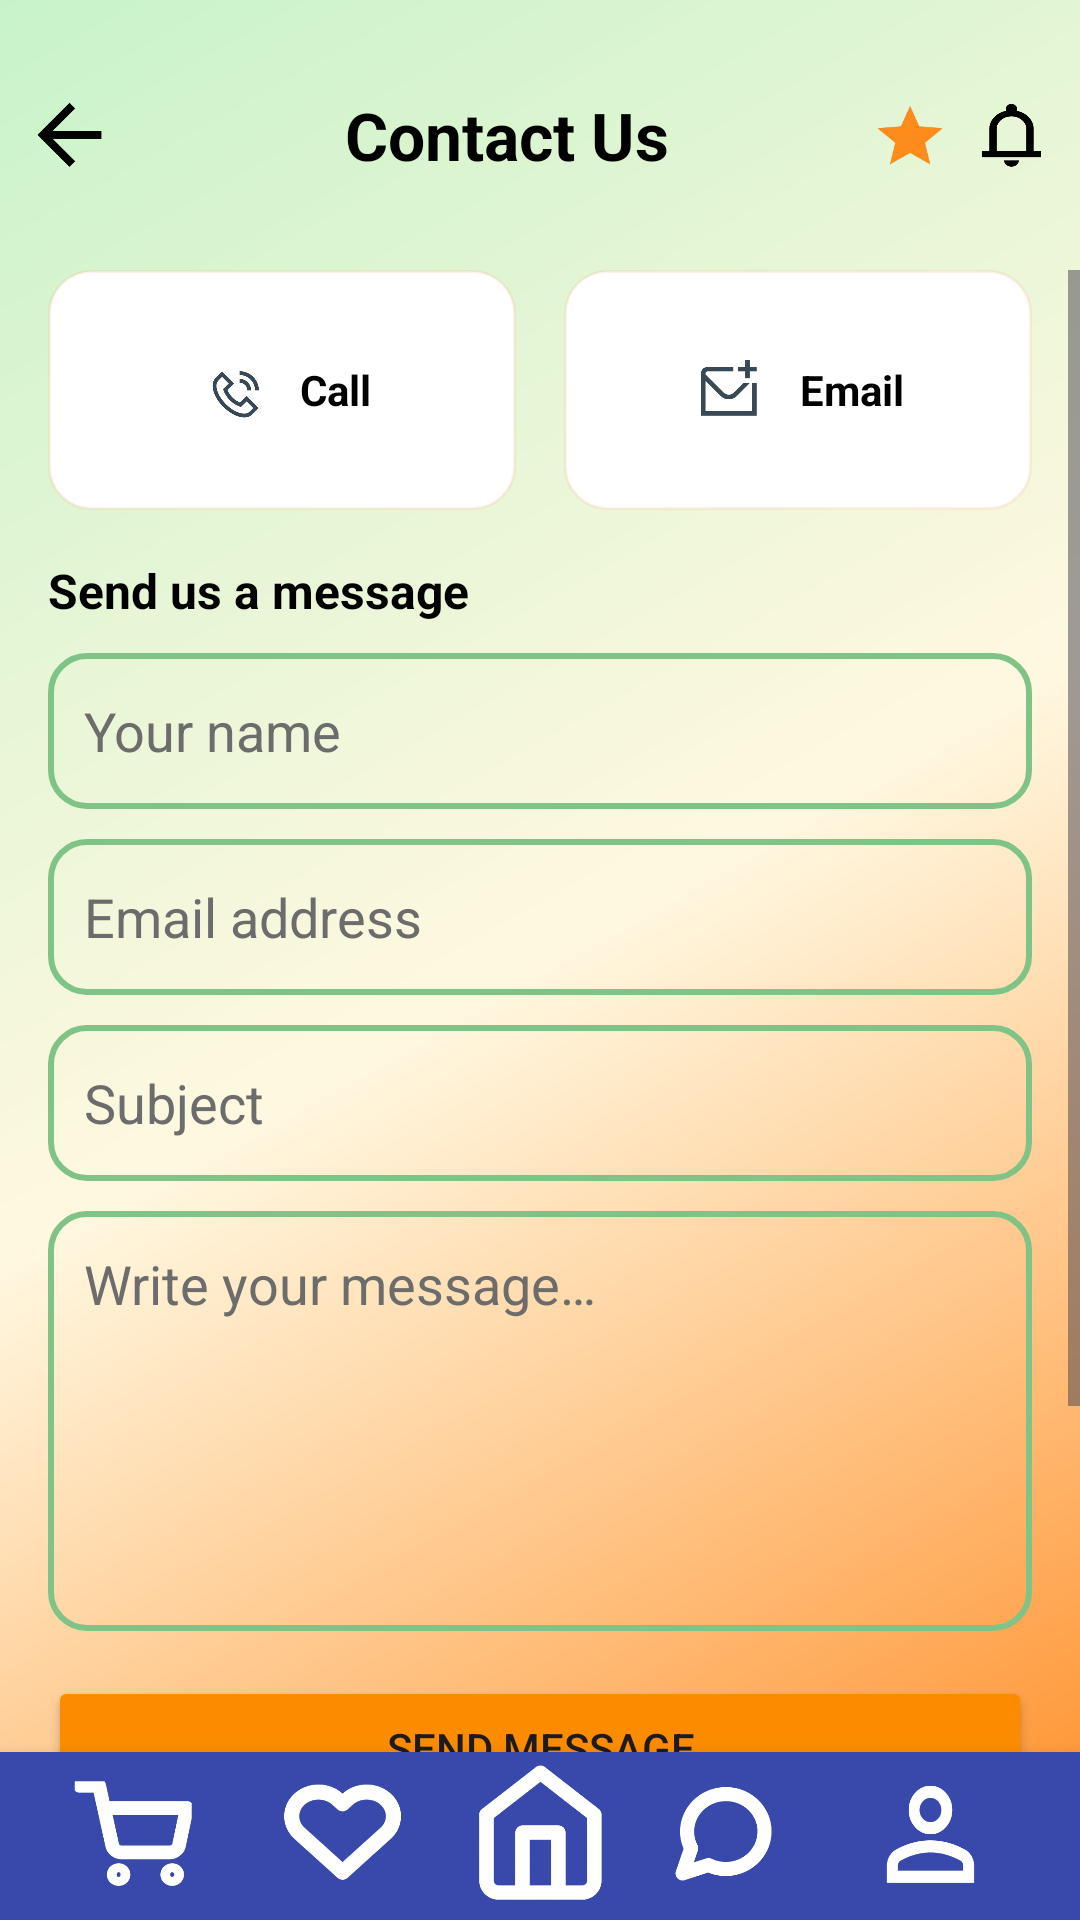

Where to tap for icons on this 1080*1920 app screen, as [x,y]:
back arrow: [70,135]
bell: [1011,135]
menu cart: [133,1833]
menu home: [540,1832]
menu profile: [930,1834]
menu wishlist: [342,1832]
phone: [235,394]
star: [909,135]
